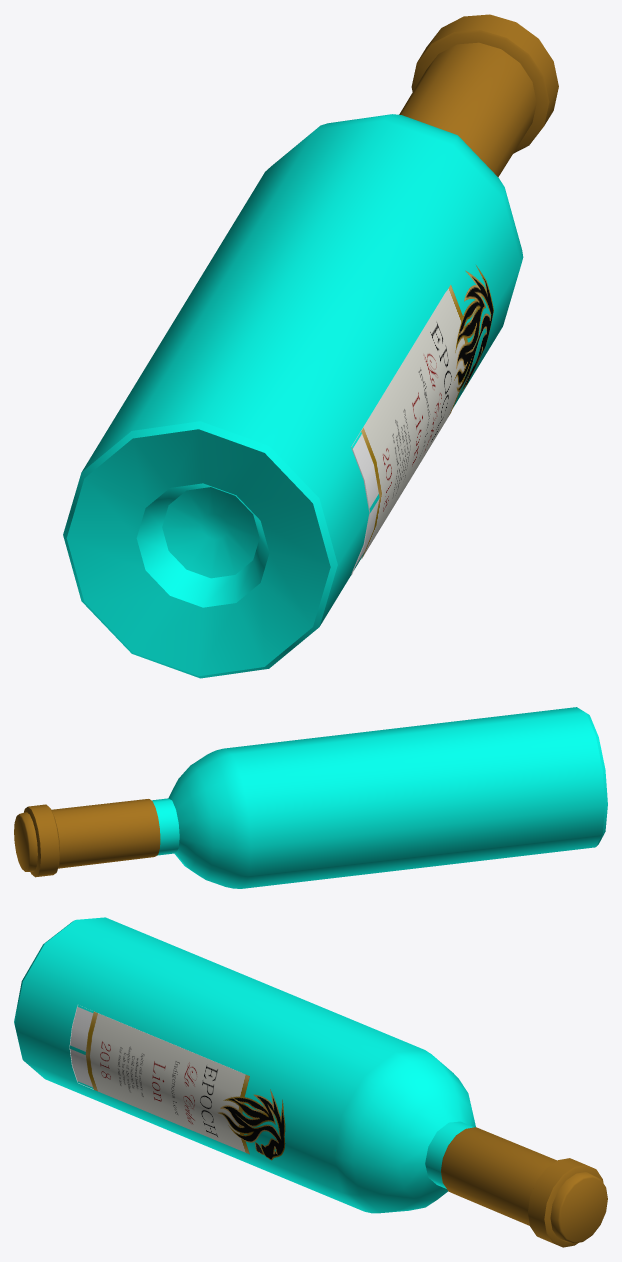
The model's file is wine bottle.fbx.
The picture shows the model from 3 angles, top to bottom: view 1: azimuth 30°, elevation 25°; view 2: azimuth 150°, elevation 25°; view 3: azimuth 270°, elevation 25°; orthographic projection. The views are drawn at different scales.
Visible parts, largest first — view 1: wine_bottle_04_LP__1_, Wrapper, Label; view 2: wine_bottle_04_LP__1_, Wrapper; view 3: wine_bottle_04_LP__1_, Label, Wrapper.
Boxes of the visible parts, x1,y1,x2,y2 form: wine_bottle_04_LP__1_: (63, 114, 523, 678); Wrapper: (399, 14, 558, 177); Label: (351, 265, 493, 575); wine_bottle_04_LP__1_: (152, 707, 607, 888); Wrapper: (14, 799, 160, 877); wine_bottle_04_LP__1_: (14, 917, 475, 1213); Label: (69, 1005, 285, 1160); Wrapper: (441, 1127, 607, 1247).
Size of the model in its own units: 47.16 by 13.88 by 47.65.
3 materials, 1 textured.
